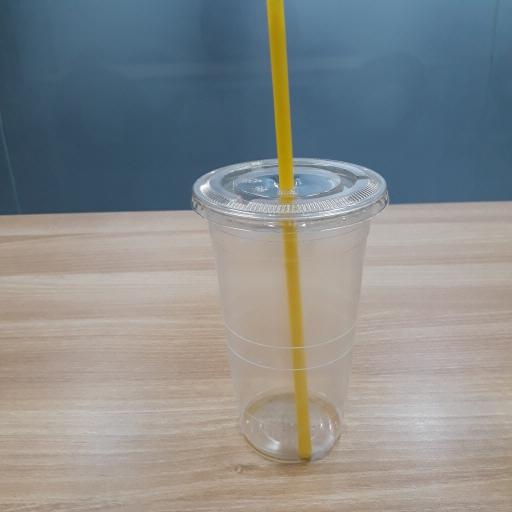Plastic_2: (186, 3, 392, 465)
